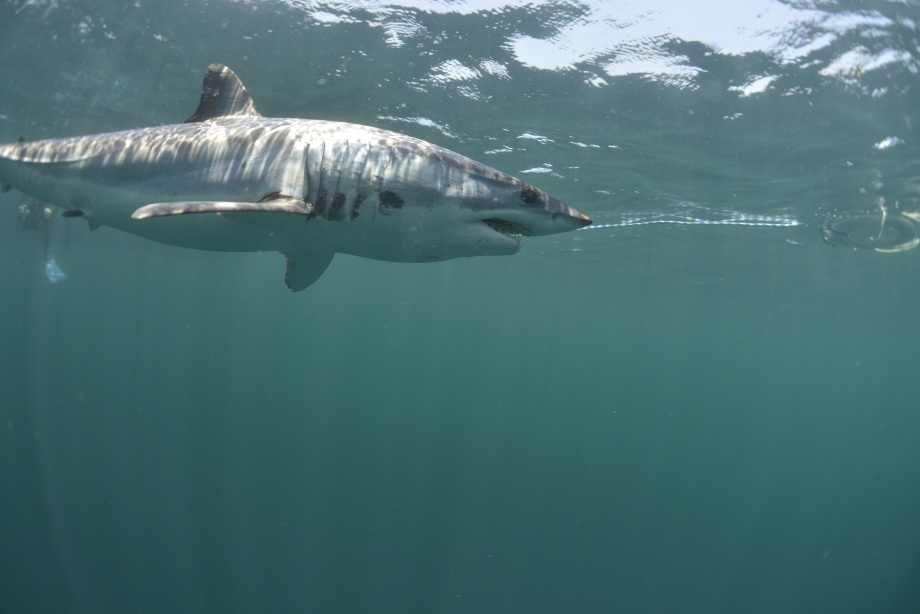Mako: (1, 53, 604, 310)
